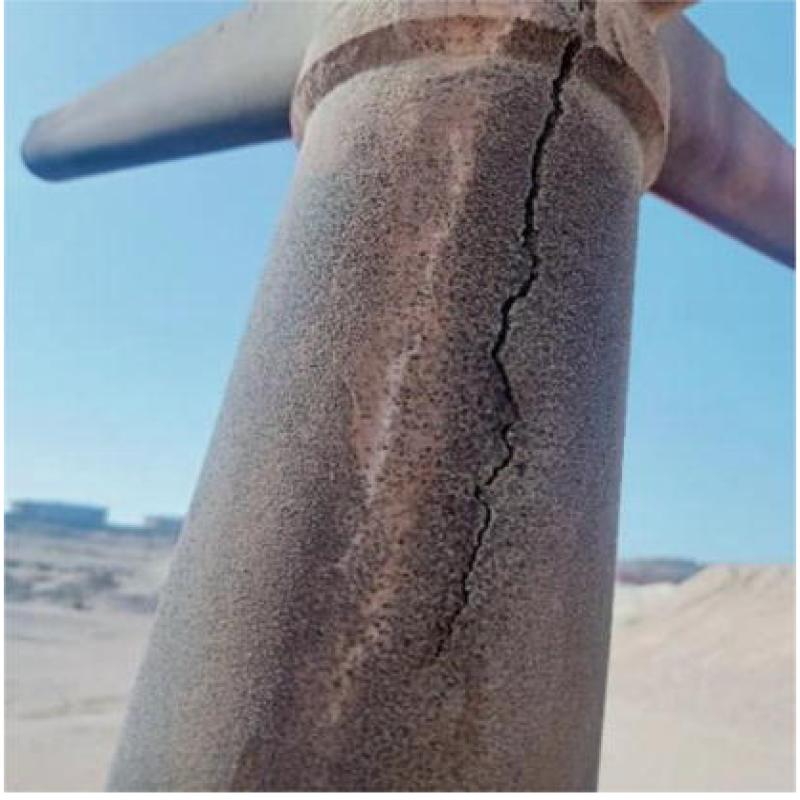Fracture: (459, 0, 604, 623)
